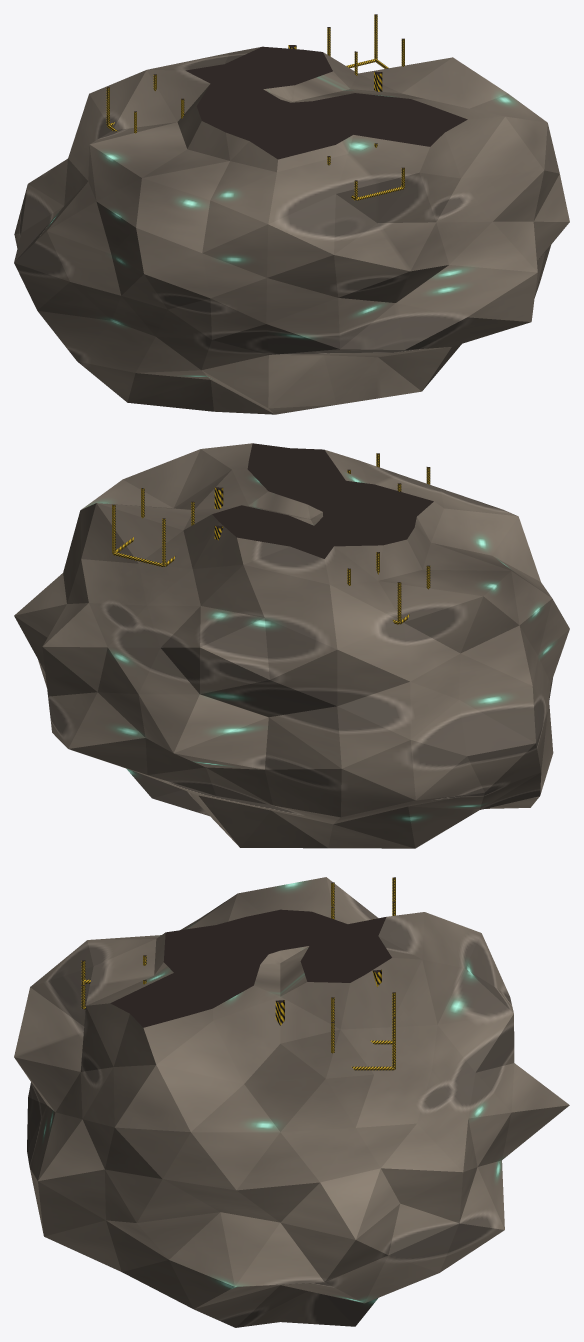
Rendered from mining_facility_build1_debris2.obj.
3 renders of one model, top to bottom at view 1: azimuth 30°, elevation 25°; view 2: azimuth 150°, elevation 25°; view 3: azimuth 270°, elevation 25°, orthographic. The views are drawn at different scales.
Parts seen in each view (by area): view 1: rock, post; view 2: rock, post; view 3: rock, post.
Boxes of the visible parts, x1,y1,x2,y2 form: rock: (14,46,569,414); post: (106,14,404,199); rock: (14,443,569,848); post: (112,453,430,623); rock: (14,877,569,1327); post: (81,877,395,1069).
Size of the model in its own units: 115 by 68.01 by 100.
Materials: 4 (2 with a texture image).
